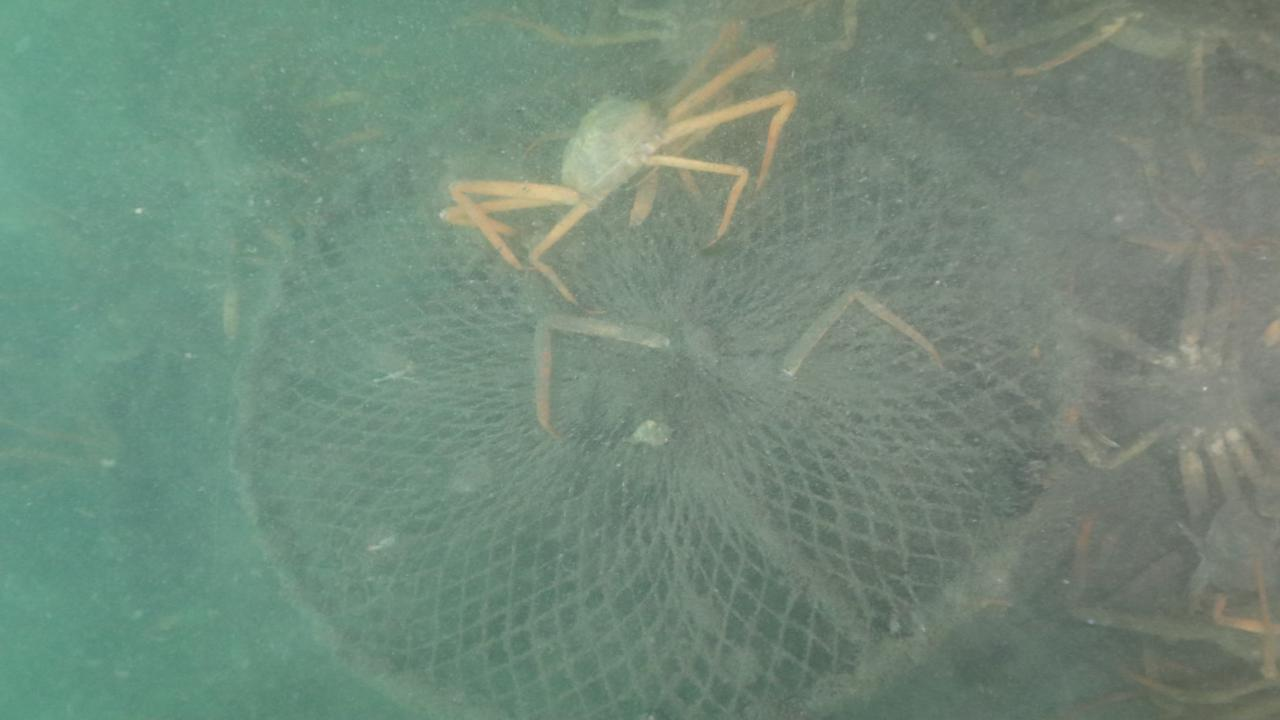circular fish trap: (211, 45, 1103, 720)
